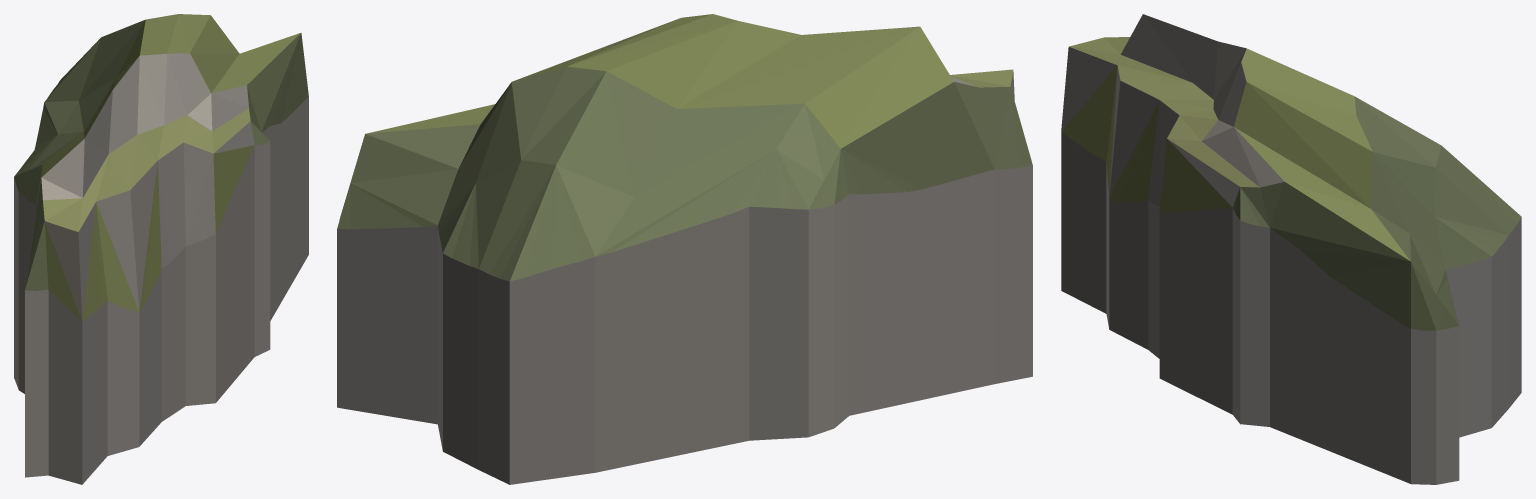
Rendered from cliff_crown.glb.
3 views of the same model, side by side, from view 1: azimuth 30°, elevation 25°; view 2: azimuth 150°, elevation 25°; view 3: azimuth 270°, elevation 25° (orthographic). The views are drawn at different scales.
Visible parts, largest first — view 1: cliff_crown; view 2: cliff_crown; view 3: cliff_crown.
Part boxes in pixels (x1,y1,x2,y2): cliff_crown: [14, 14, 308, 484]; cliff_crown: [337, 14, 1032, 484]; cliff_crown: [1061, 14, 1521, 484].
Bounding box in the file's own units: 134 × 93.57 × 124.
